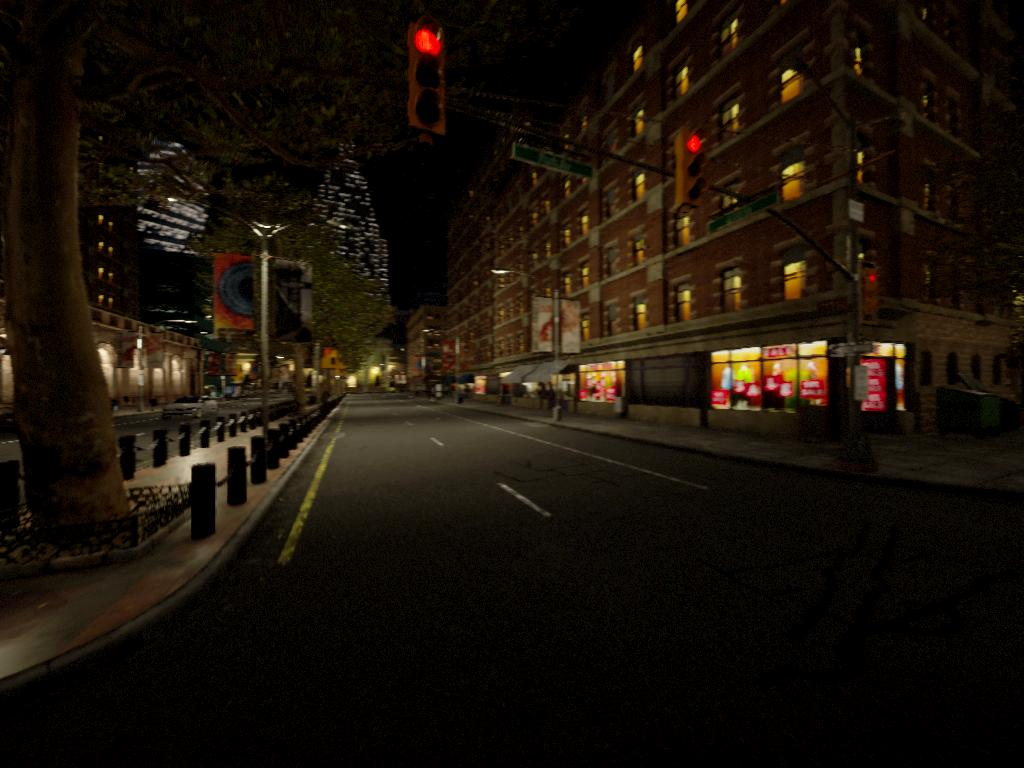traffic_light: (407, 21, 447, 135), (675, 131, 710, 215), (860, 266, 880, 323)
